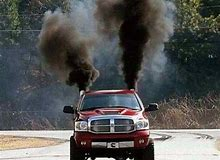smoke: (94, 1, 168, 87), (36, 12, 100, 90)
